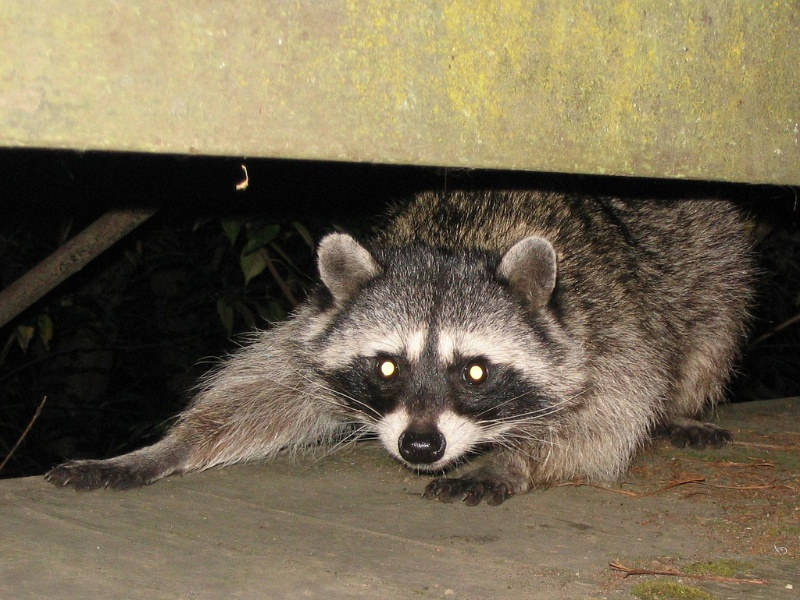raccoon: (47, 175, 758, 508)
